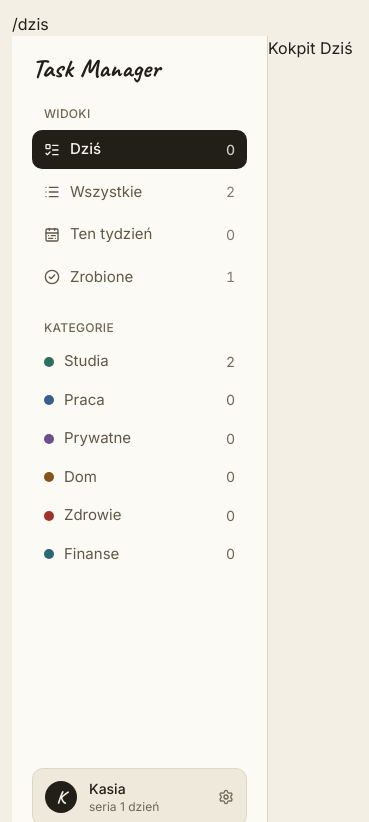
Test: AppShell — nawigacja i liczniki › desktop: pozycje KATEGORIE są klikalne i prowadzą do /wszystkie?kat=
Click the link with aria-label "Kategoria Studia": (86, 361) [44,351,235,370]
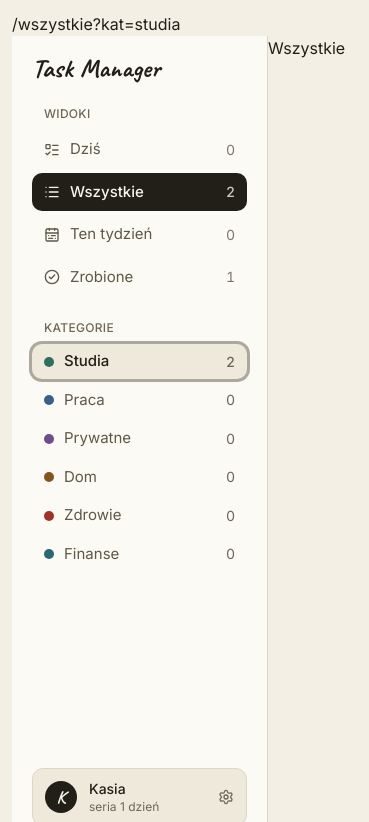
Check: the text with test id "path" reads "/wszystkie", box [12,14,93,34]
Check: the text with test id "search" shows "kat=studia", box [93,14,180,34]
